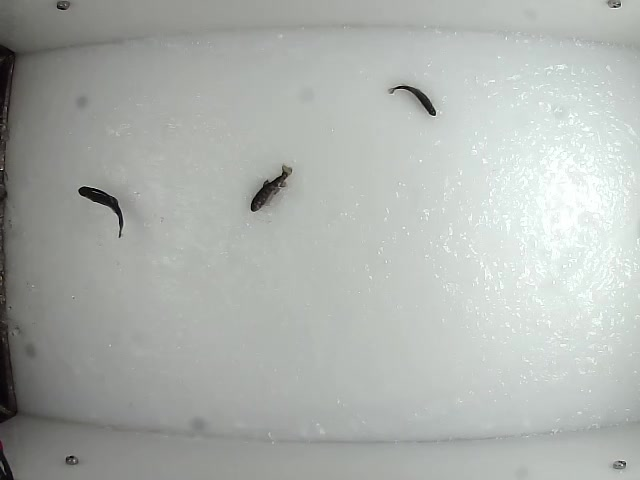fish: (74, 183, 124, 239), (249, 164, 296, 214), (386, 85, 438, 117)
